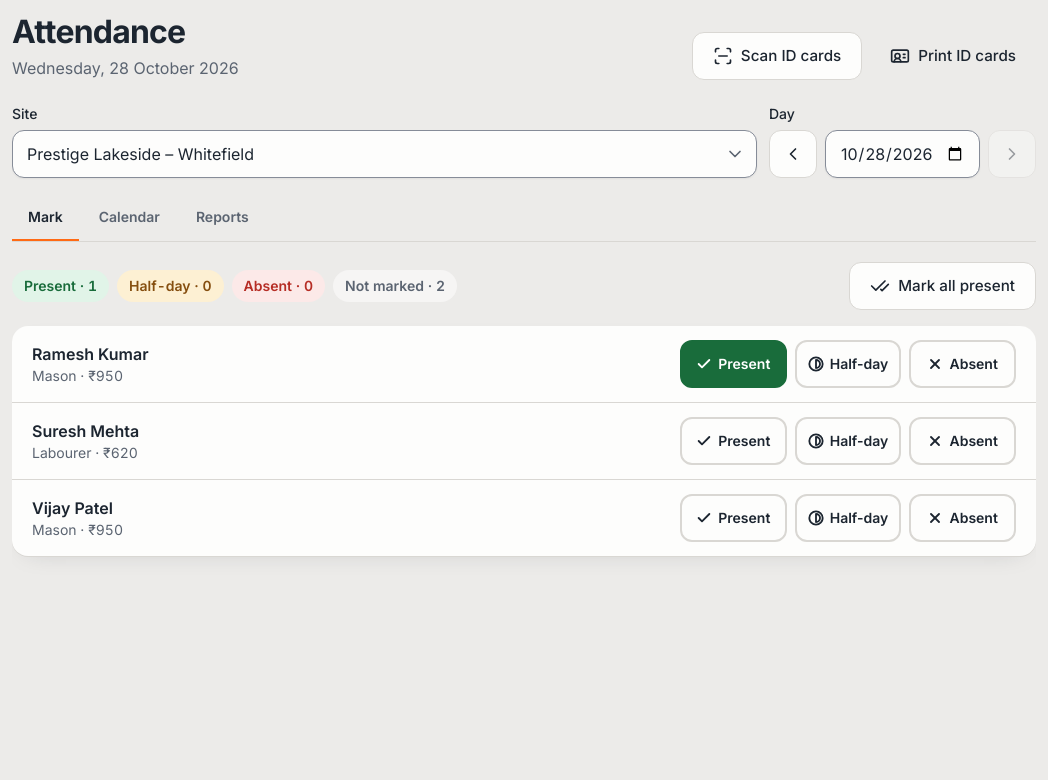
Test: AttendancePage › keeps a tap made while the save is still in flight
Check: the element "Ramesh Kumar" is shown, box [12,326,1036,402]
Click the button "Half-day" in the row of "Suresh Mehta" at (848, 441), box [795,417,901,465]
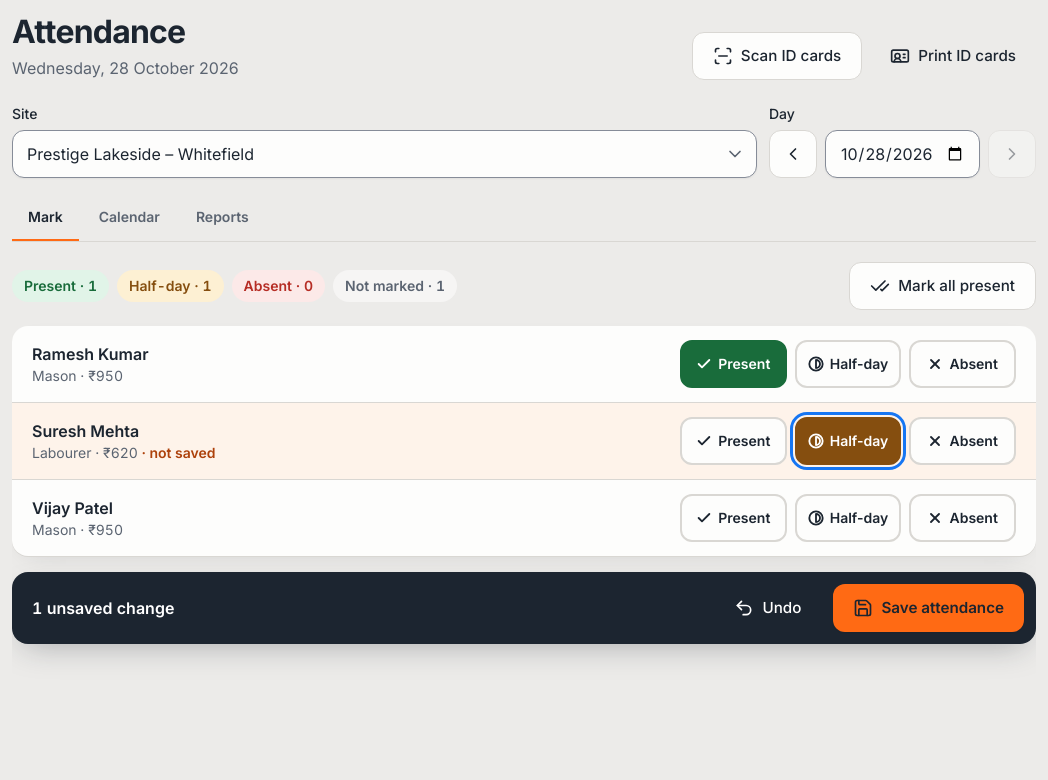
Click the button "Save attendance" at (929, 608), box [833,584,1024,632]
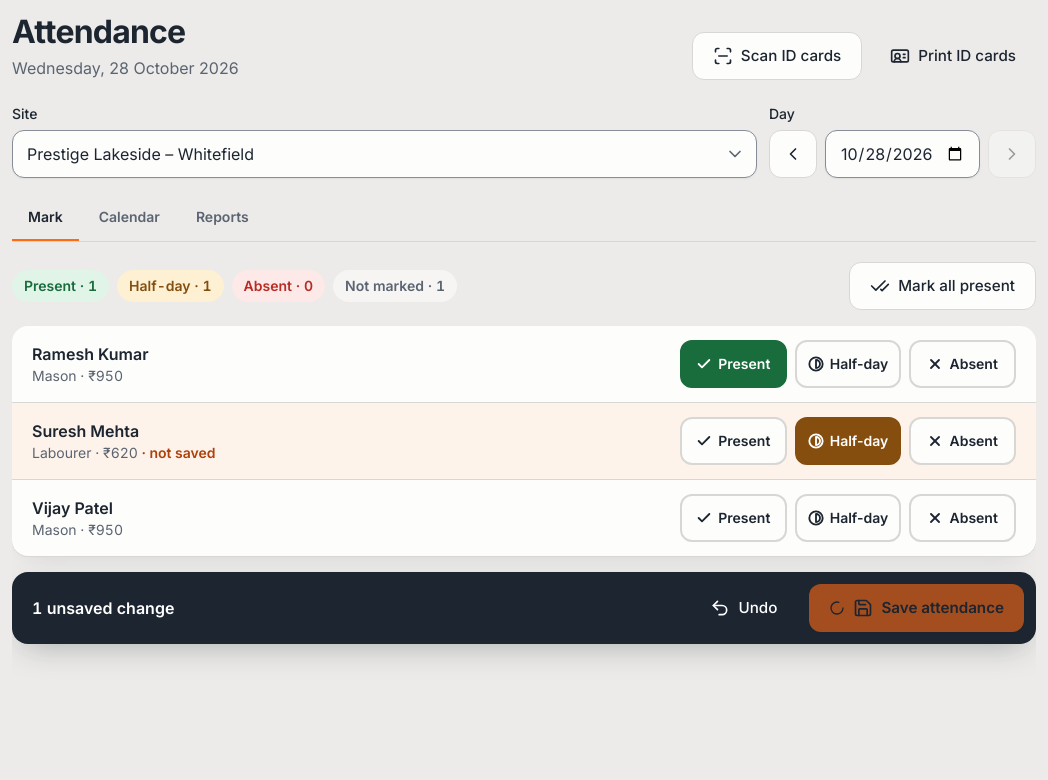
Click the button "Absent" in the row of "Vijay Patel" at (963, 518), box [909,494,1016,542]
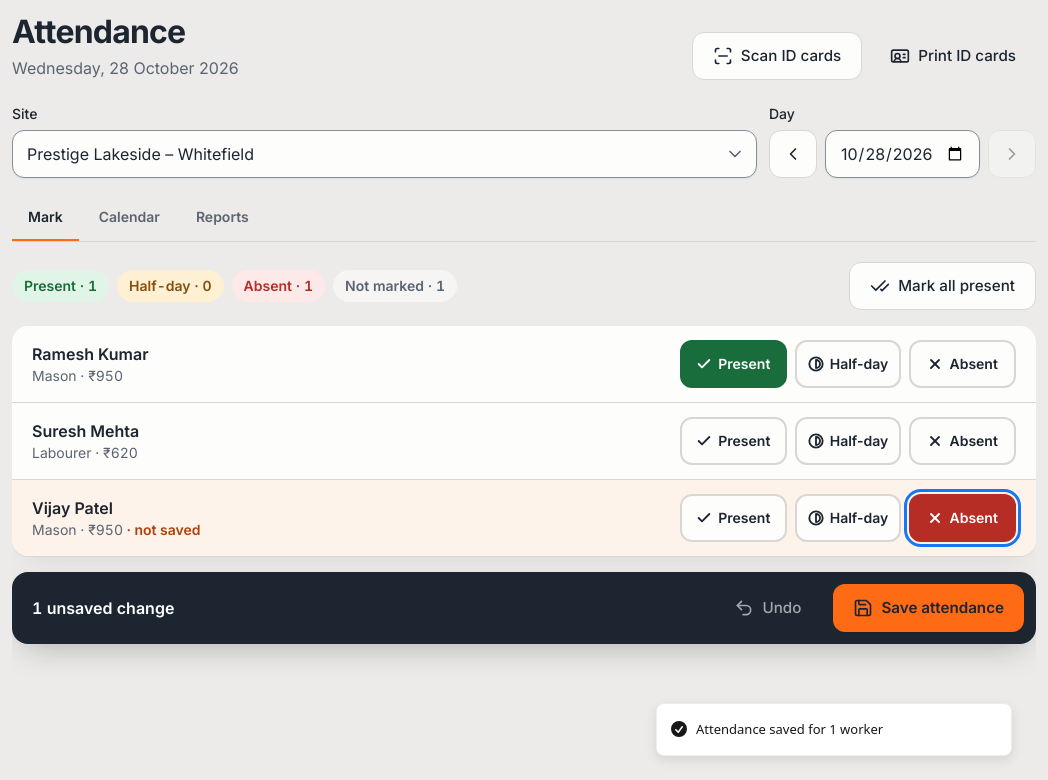
Check: the text "1 unsaved change" is shown, box [32,598,174,618]
Check: the text "Attendance saved for 1 worker" is shown, box [696,720,883,739]
